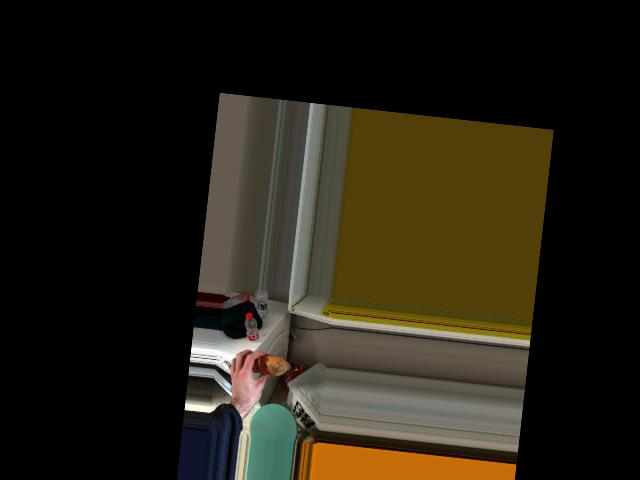sweet_potato: (249, 352, 283, 376)
